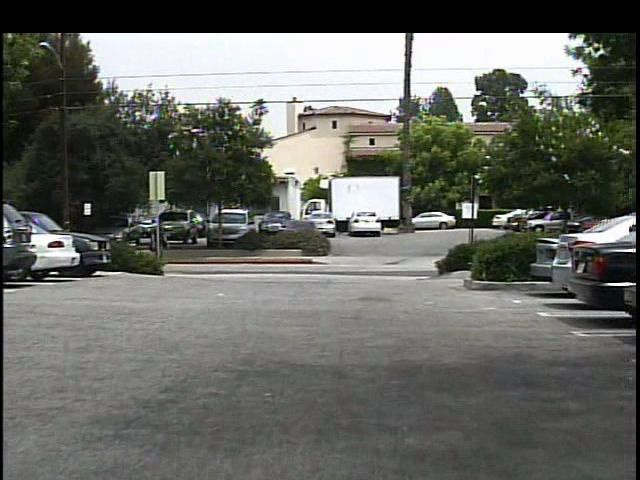person: (149, 216, 174, 275)
